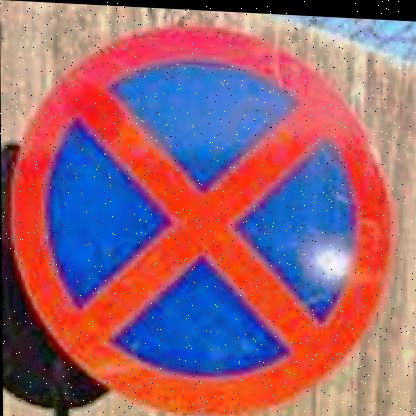No stopping: (5, 5, 404, 416)
